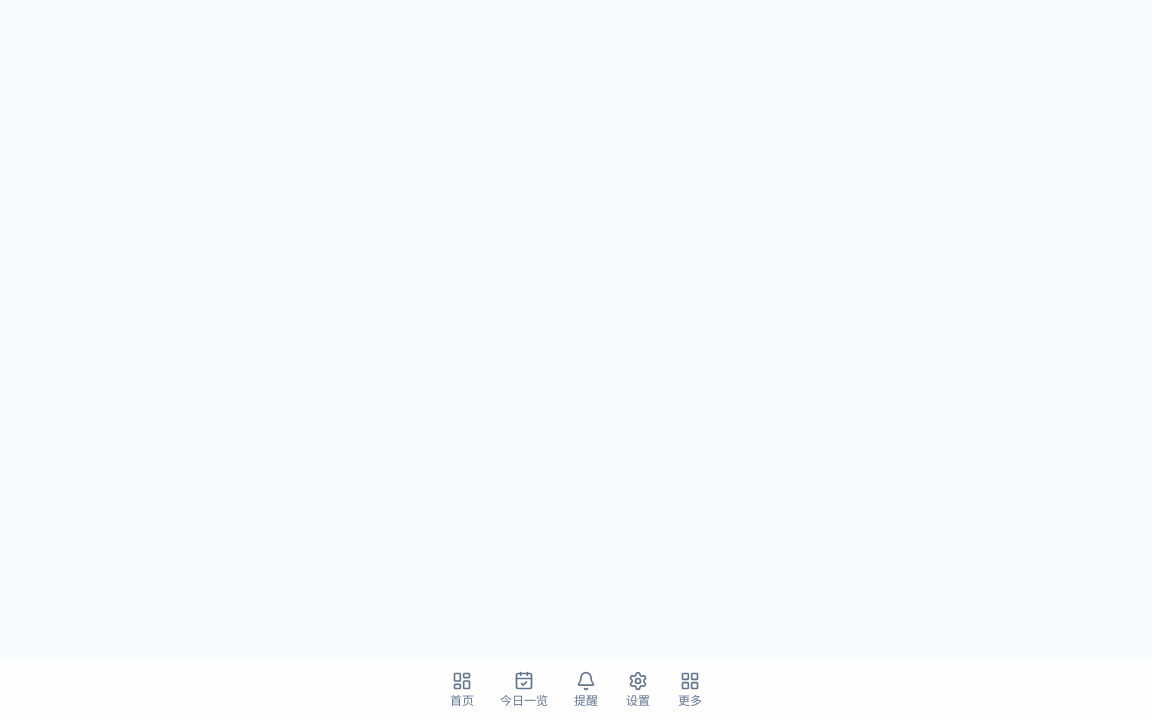
Test case: 导航可达性 › 「更多」面板按四组列出每一条已挂载的受保护路由
Click the button "更多": (690, 690) [668, 668, 712, 712]
(page scrolled)
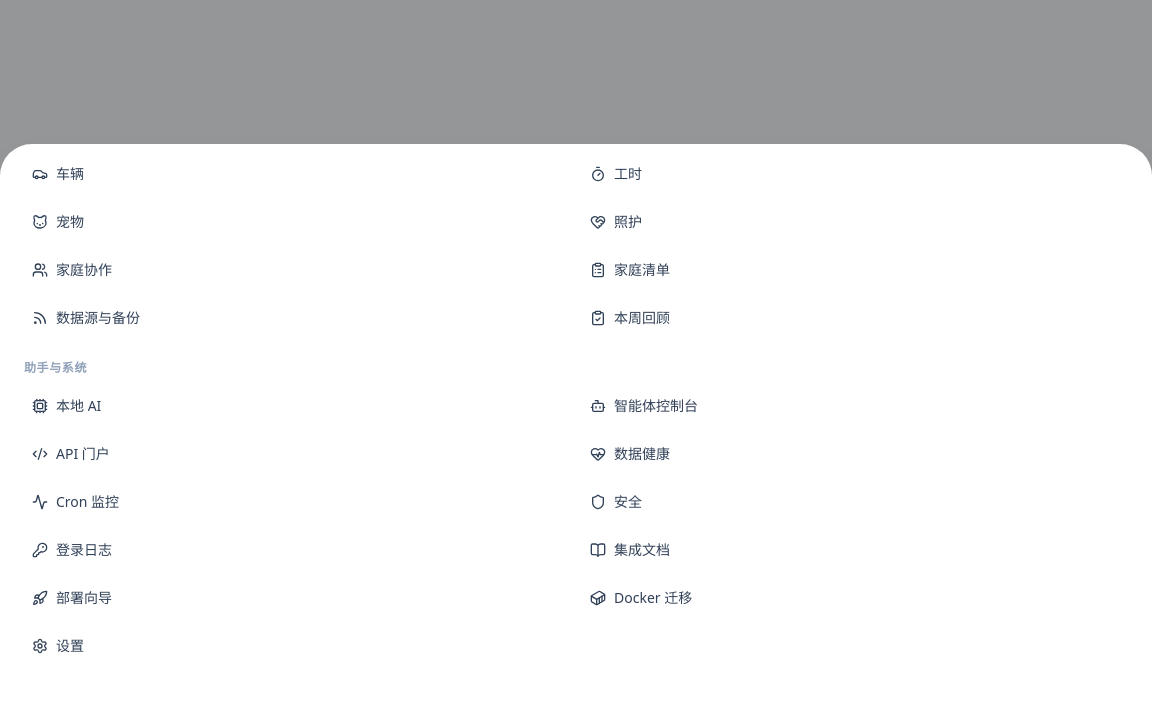
Expected: the heading "助手与系统" is shown, [24, 359, 87, 376]
Expected: the button "Cron 监控" is shown, [20, 480, 574, 524]
Expected: the button "数据健康" is shown, [578, 432, 1132, 476]
